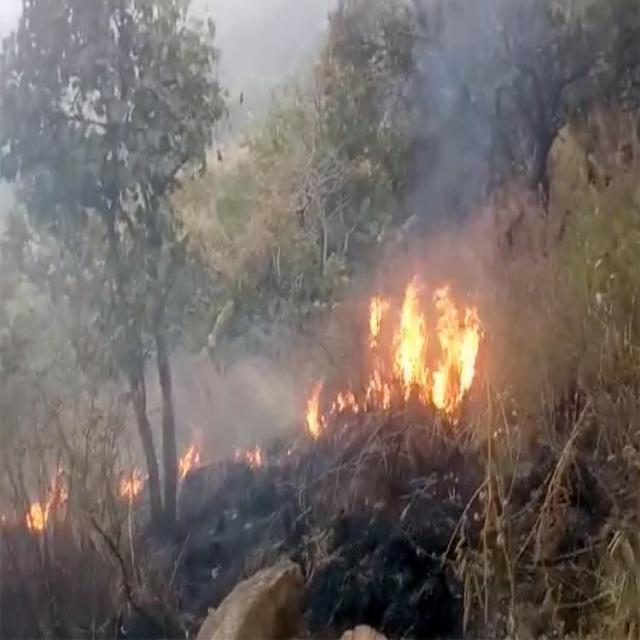Fire: (365, 288, 483, 408)
Smoke: (418, 6, 496, 266), (174, 353, 316, 460), (213, 6, 310, 95)
